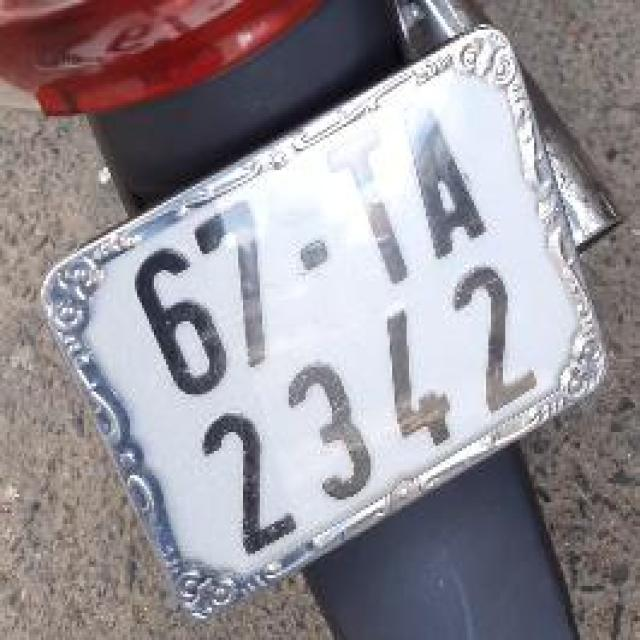2: (432, 238, 558, 436), (185, 397, 310, 569)
3: (264, 345, 403, 520)
4: (362, 293, 469, 476)
6: (121, 230, 248, 412)
7: (175, 175, 305, 391)
A: (390, 73, 501, 280)
T: (312, 104, 431, 310)
